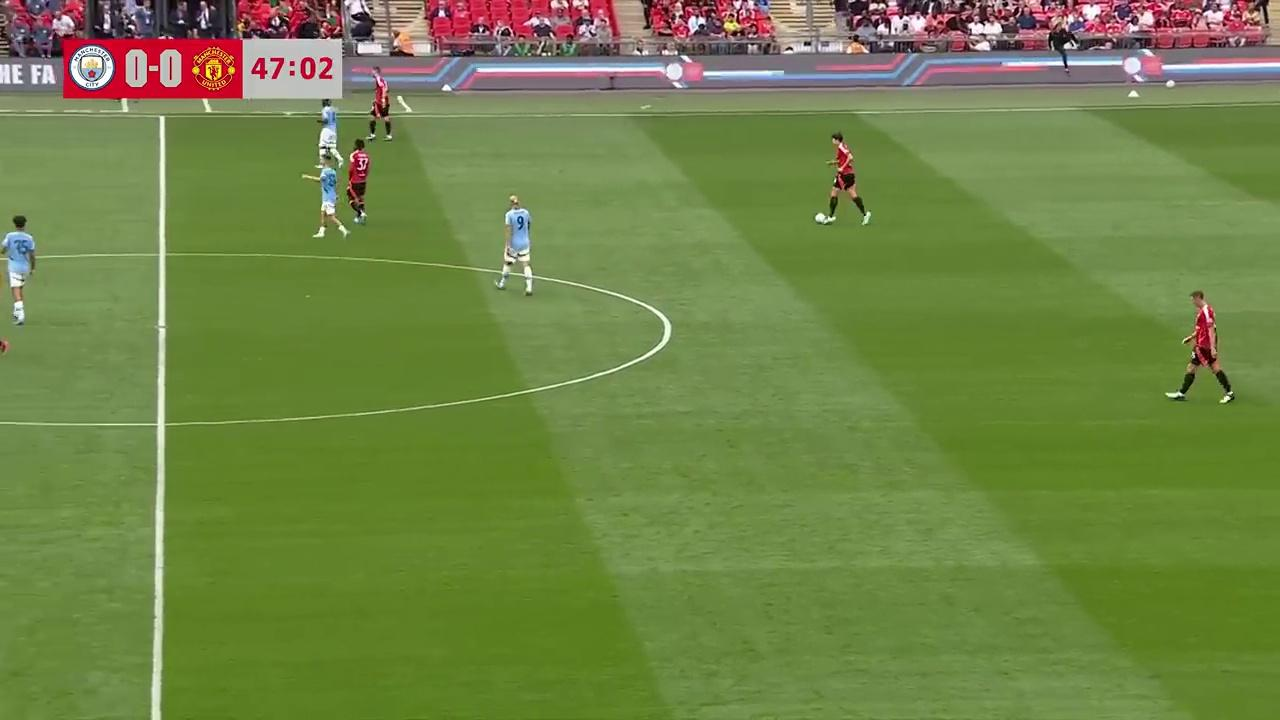ball: (813, 208, 826, 225)
player: (1168, 290, 1235, 403), (817, 130, 872, 225), (0, 214, 37, 327), (301, 155, 349, 240), (495, 195, 534, 294), (344, 138, 371, 226), (368, 66, 394, 141), (315, 98, 340, 167)
